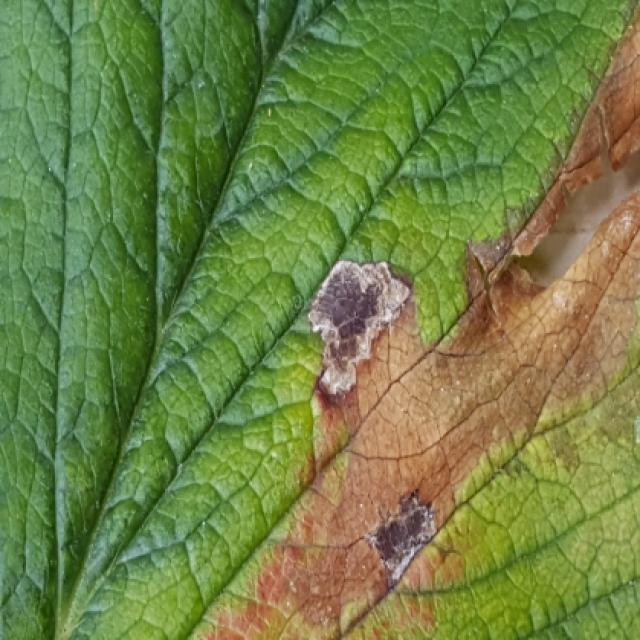Angular Leafspot: (184, 2, 638, 638)
